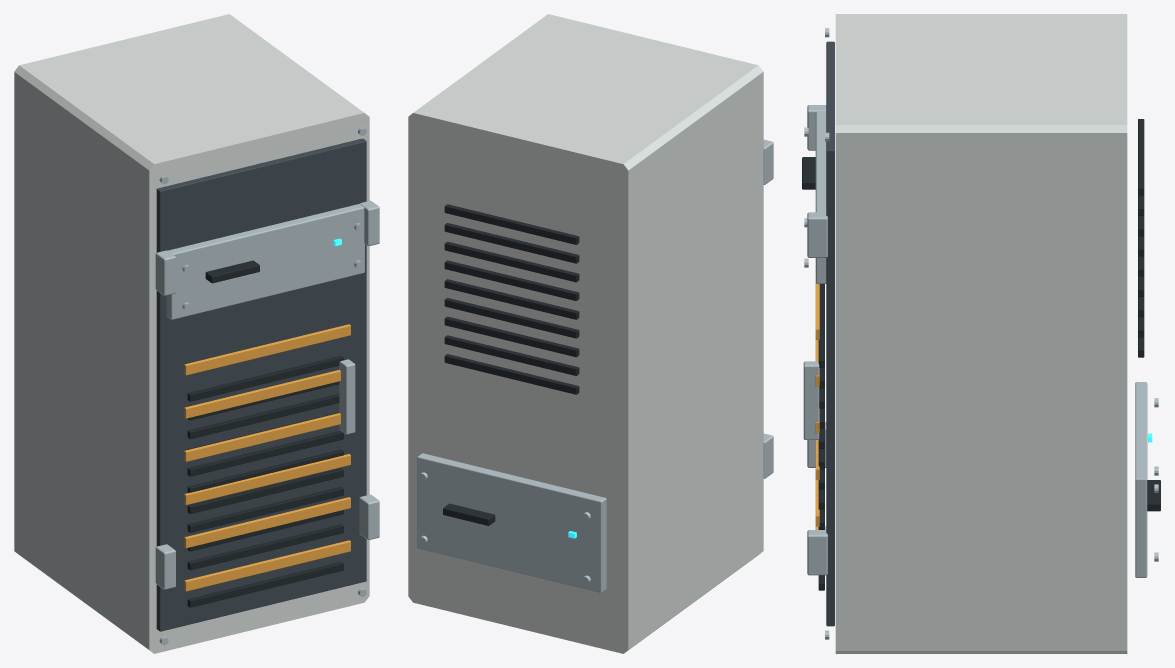
File: data-centre-infiltration-kit-data-centre-infiltration--cdadb9df__29232.glb
3 renders of one model, left to right at view 1: azimuth 30°, elevation 25°; view 2: azimuth 150°, elevation 25°; view 3: azimuth 270°, elevation 25°, orthographic. The views are drawn at different scales.
Parts seen in each view (by area): view 1: data-centre-infiltration-kit-battery-tower; view 2: data-centre-infiltration-kit-battery-tower; view 3: data-centre-infiltration-kit-battery-tower.
Part boxes in pixels (left/top/right/bottom): data-centre-infiltration-kit-battery-tower: left=14, top=14, right=379, bottom=653; data-centre-infiltration-kit-battery-tower: left=408, top=14, right=773, bottom=653; data-centre-infiltration-kit-battery-tower: left=802, top=14, right=1160, bottom=653.
Bounding box in the file's own units: 0.8001 × 1.7 × 1.04.
